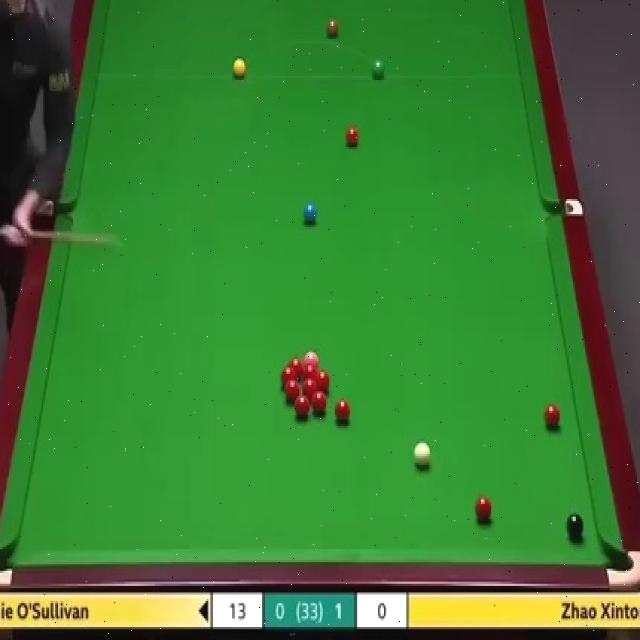black-ball: (567, 513, 585, 541)
blue-ball: (302, 202, 318, 226)
brown-ball: (326, 20, 340, 41)
green-ball: (370, 59, 387, 82)
pink-ball: (304, 352, 319, 363)
red-ball: (544, 406, 562, 433), (309, 390, 326, 416), (476, 496, 493, 521), (281, 368, 298, 391), (334, 401, 349, 424), (295, 390, 309, 413), (284, 382, 300, 402), (316, 372, 330, 392), (345, 128, 359, 148), (303, 377, 318, 393), (302, 362, 315, 380), (290, 359, 304, 374)
white-ball: (414, 442, 432, 466)
yellow-ball: (232, 58, 246, 79)
